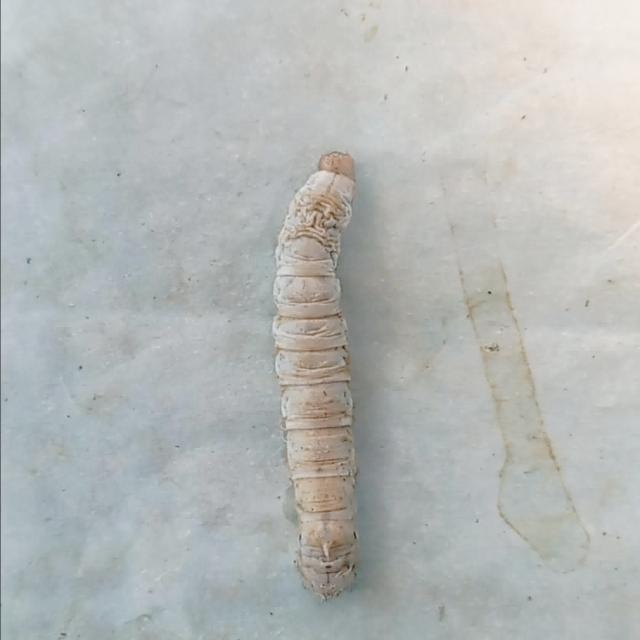Grasserie: (248, 135, 412, 615)
